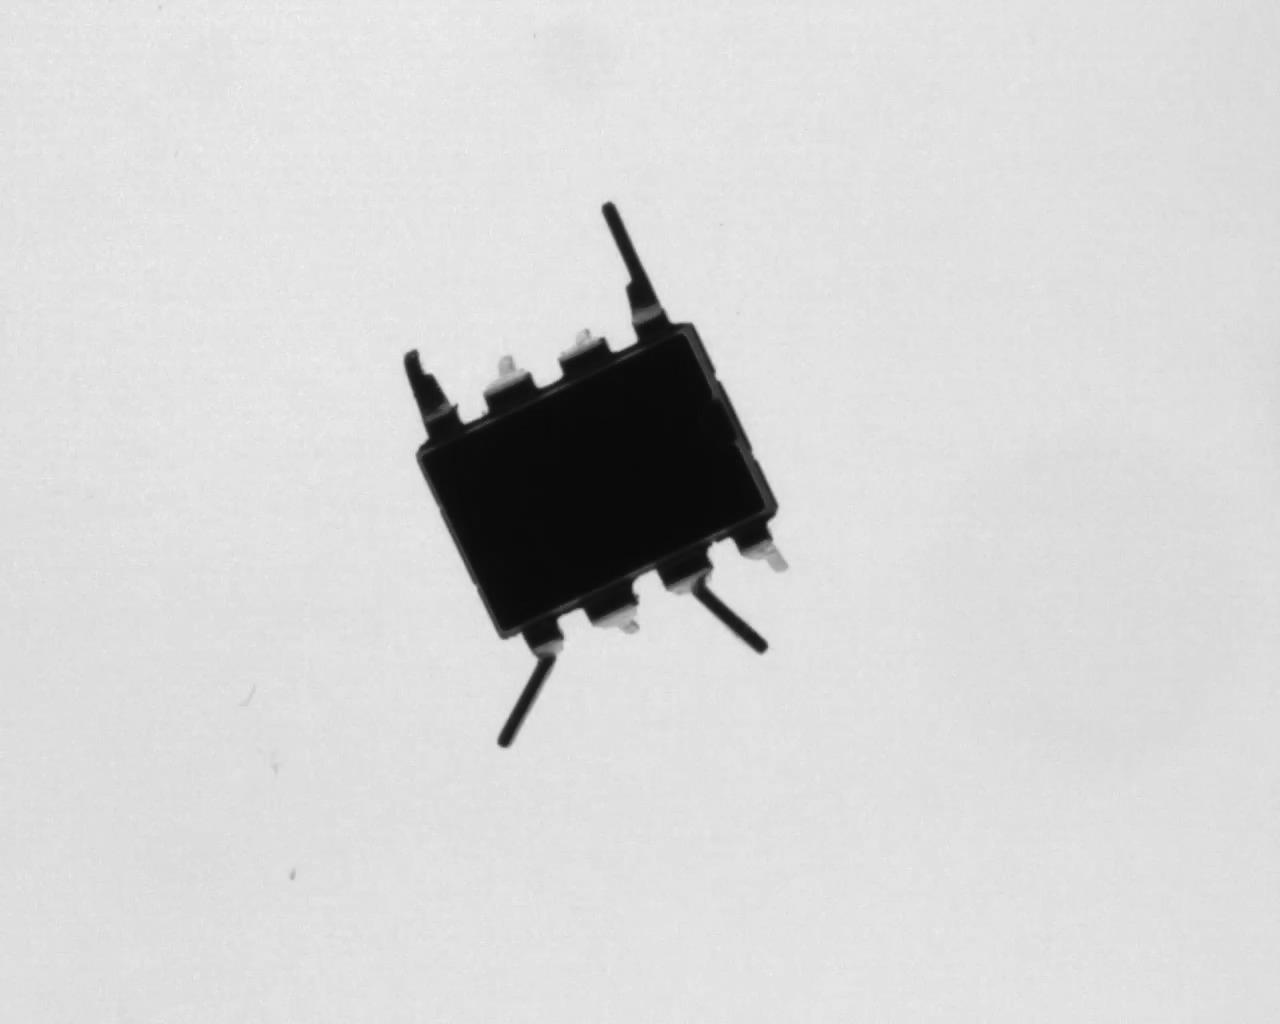Leg: (653, 552, 768, 655), (603, 199, 679, 332), (497, 615, 562, 750), (402, 348, 464, 442), (585, 579, 646, 634), (480, 353, 537, 410), (732, 523, 789, 573), (558, 328, 611, 376)
